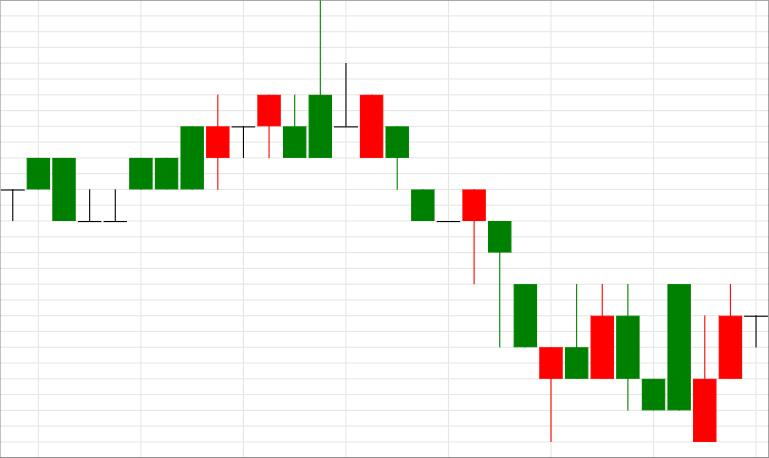hammer_rise: (386, 125, 562, 442), (334, 63, 511, 346), (334, 63, 485, 285)
inverse_hammer_rise: (387, 126, 587, 442)
